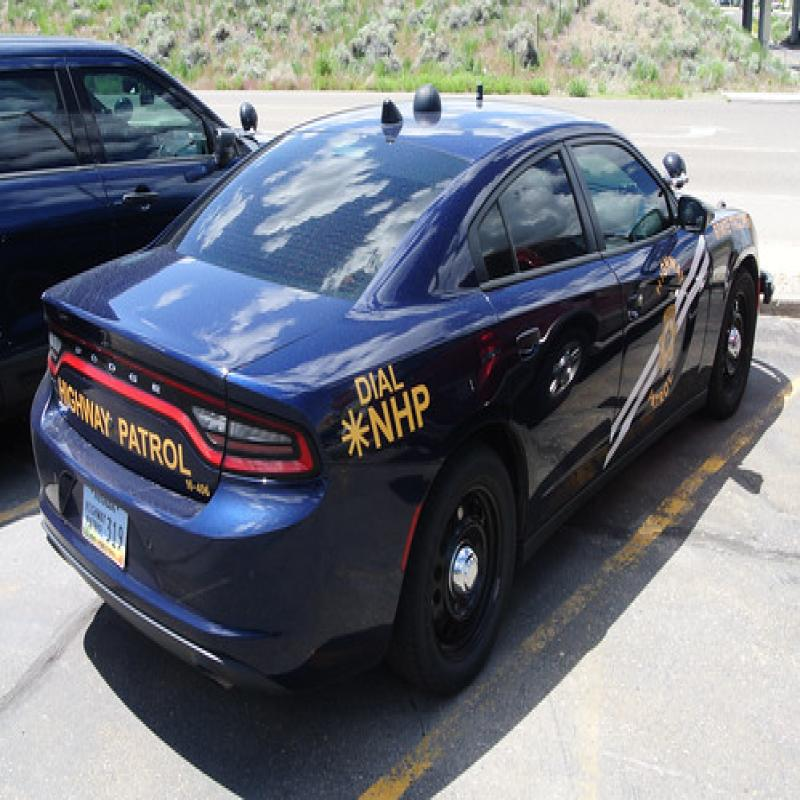AmbulanceSiren: (404, 84, 447, 127)
